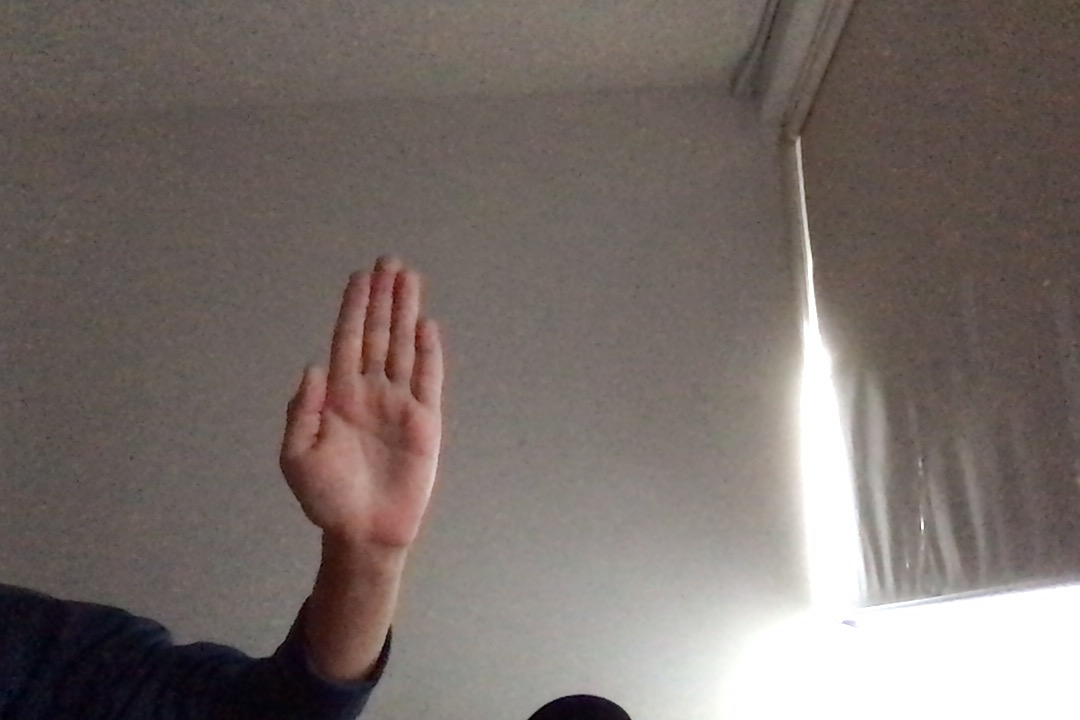palmhand: (276, 251, 453, 553)
